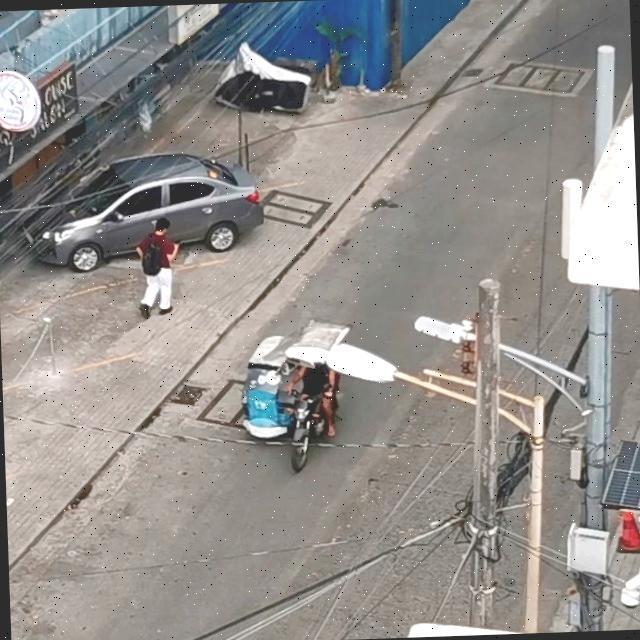Tricycle: (242, 320, 372, 466)
